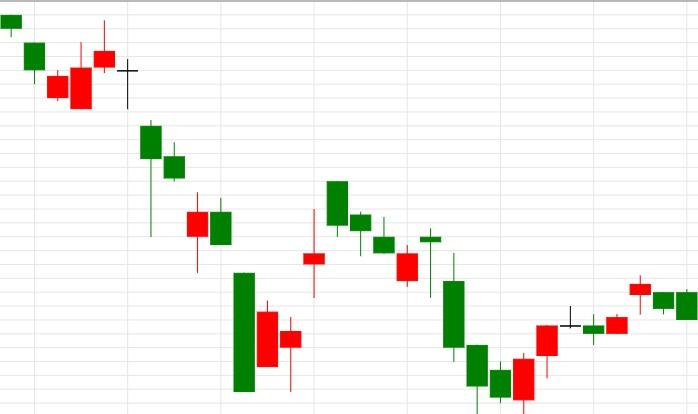bullish_engulfing_rise: (420, 228, 535, 414)
